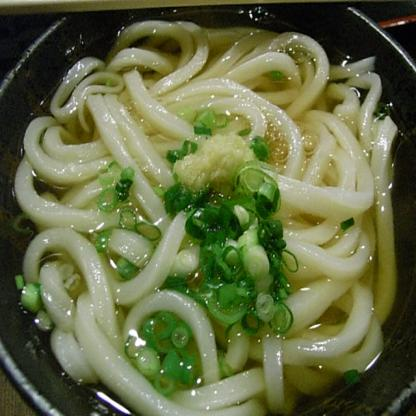Noodles: (13, 22, 402, 415)
